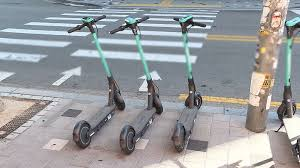kick_board: (171, 15, 205, 150)
kick_handler: (66, 14, 105, 35), (110, 16, 149, 34), (173, 16, 205, 32)
kick_neck: (184, 36, 196, 86), (285, 40, 293, 97)
kick_wheel: (74, 121, 91, 147), (121, 127, 137, 153), (277, 101, 297, 118), (174, 125, 185, 151), (114, 91, 125, 109), (154, 96, 163, 114)
